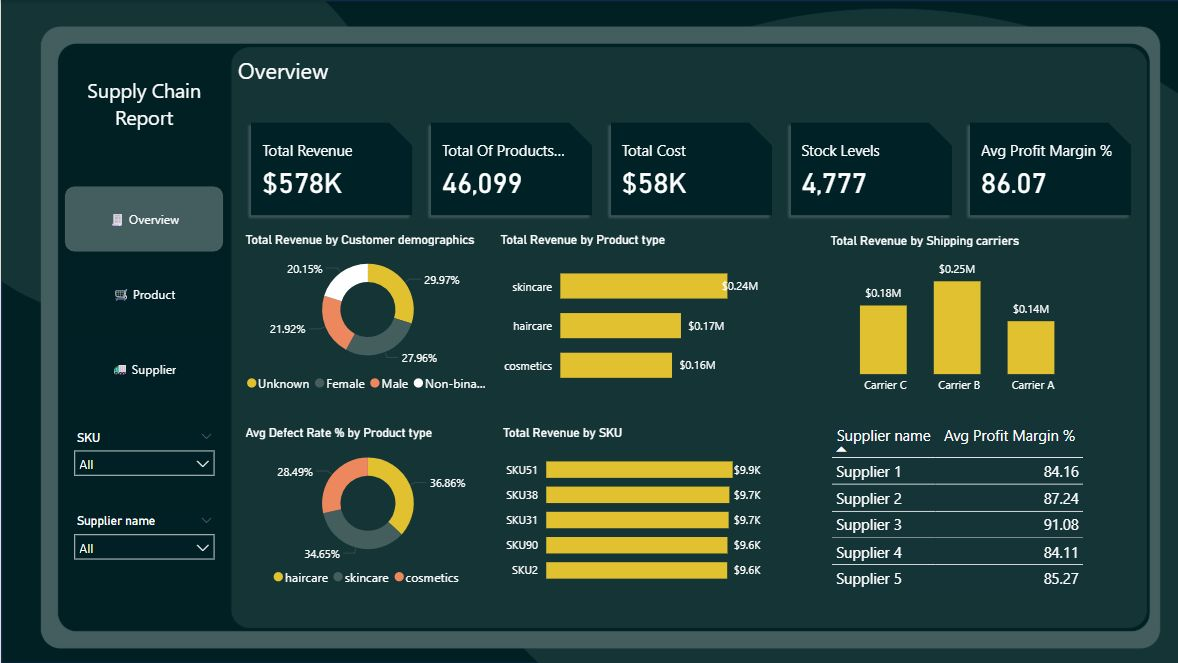

This screenshot's page, from the dashboard's own definition file:
{"tool":"powerbi","page":{"name":"🧾   Overview","canvas":[1700,970],"ordinal":0},"visuals":[{"type":"cardVisual","fields":{"Data":["_Measures.Total Revenue","_Measures.Total Of Products Sold","_Measures.Total Cost","_Measures.Stock Levels","_Measures.Avg Profit Margin %"]},"box":[333.2,151.3,1316.7,167.5],"z":0},{"type":"donutChart","fields":{"Y":["_Measures.Total Revenue"],"Category":["supply_chain_data.Customer demographics"]},"box":[347.6,363.8,408.9,221.6],"z":1000},{"type":"donutChart","fields":{"Category":["supply_chain_data.Product type"],"Y":["_Measures.Avg Defect Rate %"]},"box":[347.6,625,423.3,228.8],"z":2000},{"type":"clusteredBarChart","fields":{"Y":["_Measures.Total Revenue"],"Category":["supply_chain_data.Product type"]},"box":[770.9,363.8,401.7,221.6],"z":3000},{"type":"clusteredBarChart","fields":{"Y":["_Measures.Total Revenue"],"Category":["supply_chain_data.SKU"]},"box":[772.7,625,327.8,228.8],"z":4000},{"type":"columnChart","fields":{"Y":["_Measures.Total Revenue"],"Category":["supply_chain_data.Shipping carriers"]},"box":[1237.4,363.8,376.5,221.6],"z":5000},{"type":"tableEx","fields":{"Values":["supply_chain_data.Supplier name","_Measures.Avg Profit Margin %"]},"box":[1237.4,650.2,412.5,203.5],"z":6000},{"type":"textbox","box":[347.6,88.3,297.2,63],"z":7000},{"type":"pageNavigator","box":[88.3,263,225.2,234.2],"z":8000},{"type":"slicer","fields":{"Values":["supply_chain_data.SKU"]},"box":[88.3,565.4,225.2,91.9],"z":9000},{"type":"slicer","fields":{"Values":["supply_chain_data.Supplier name"]},"box":[88.3,657.3,225.2,93.7],"z":10000},{"type":"textbox","box":[88.3,90.1,245,82.9],"z":11000}]}

Visuals, with their boxes in screenshot pixels (x1, y1, x2, y2), scaled from the page's 1700x970 canvas onto the 1178x663 screenshot:
cardVisual - _Measures.Total Revenue x _Measures.Total Of Products Sold: box=[231, 103, 1143, 218]
donutChart - _Measures.Total Revenue x supply_chain_data.Customer demographics: box=[241, 249, 524, 400]
donutChart - supply_chain_data.Product type x _Measures.Avg Defect Rate %: box=[241, 427, 534, 584]
clusteredBarChart - _Measures.Total Revenue x supply_chain_data.Product type: box=[534, 249, 813, 400]
clusteredBarChart - _Measures.Total Revenue x supply_chain_data.SKU: box=[535, 427, 763, 584]
columnChart - _Measures.Total Revenue x supply_chain_data.Shipping carriers: box=[857, 249, 1118, 400]
tableEx - supply_chain_data.Supplier name x _Measures.Avg Profit Margin %: box=[857, 444, 1143, 584]
textbox: box=[241, 60, 447, 103]
pageNavigator: box=[61, 180, 217, 340]
slicer - supply_chain_data.SKU: box=[61, 386, 217, 449]
slicer - supply_chain_data.Supplier name: box=[61, 449, 217, 513]
textbox: box=[61, 62, 231, 118]
